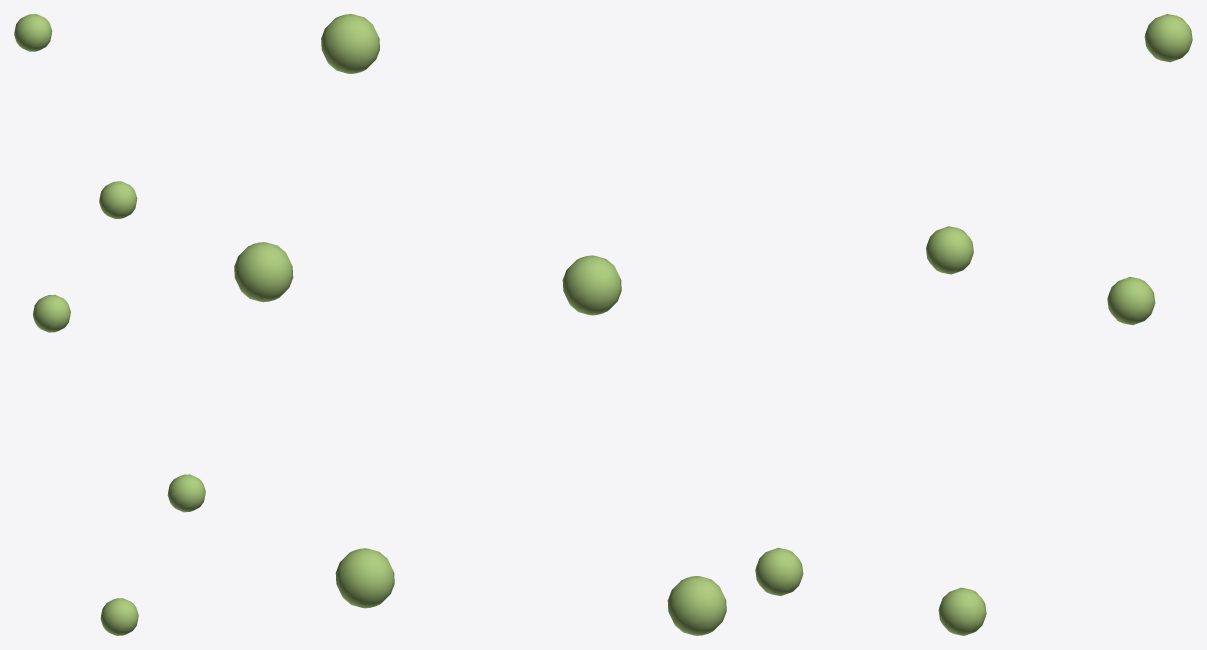
The model's file is interpectoral-nodes-l.glb.
3 views of the same model, side by side, from view 1: azimuth 30°, elevation 25°; view 2: azimuth 150°, elevation 25°; view 3: azimuth 270°, elevation 25° (orthographic). The views are drawn at different scales.
Parts seen in each view (by area): view 1: Interpectoral nodes.l; view 2: Interpectoral nodes.l; view 3: Interpectoral nodes.l.
Boxes of the visible parts, <box> form: Interpectoral nodes.l: <box>14,14,205,635</box>; Interpectoral nodes.l: <box>234,14,726,635</box>; Interpectoral nodes.l: <box>755,14,1192,635</box>.
Size of the model in its own units: 0.0135 by 0.0366 by 0.0234.
